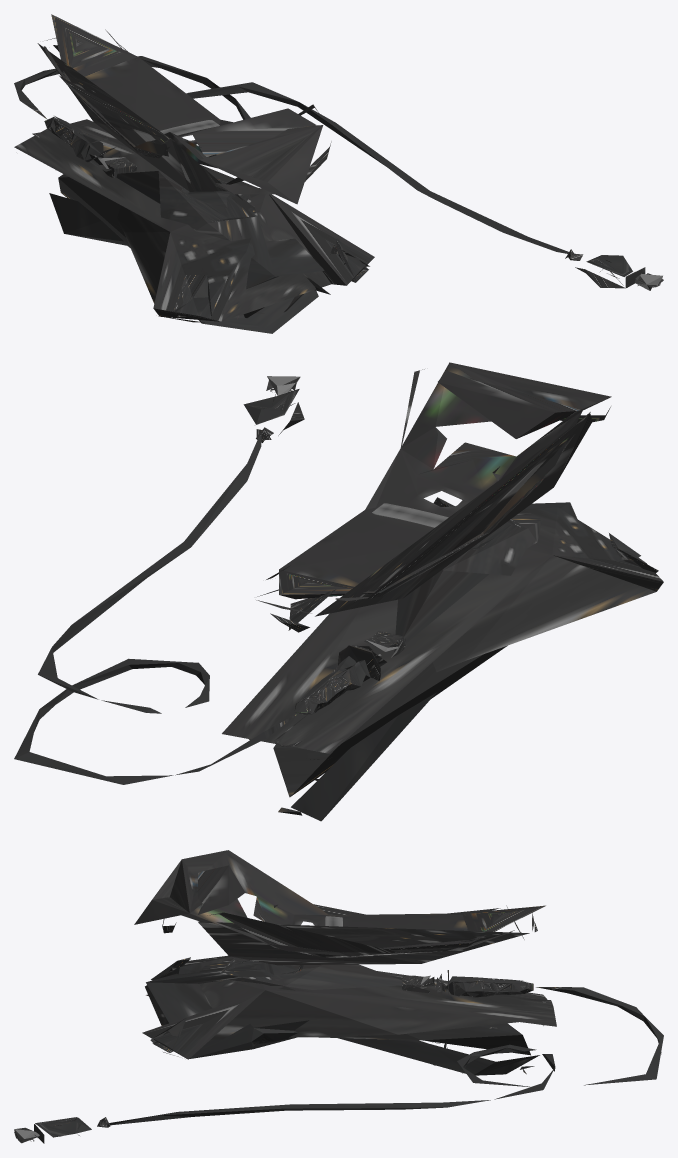
Rendered from computer_scanner_barcode_b01.glb.
The picture shows the model from 3 angles, top to bottom: view 1: azimuth 30°, elevation 25°; view 2: azimuth 150°, elevation 25°; view 3: azimuth 270°, elevation 25°; orthographic projection. The views are drawn at different scales.
Parts seen in each view (by area): view 1: geometry_0; view 2: geometry_0; view 3: geometry_0.
Part boxes in pixels (x1,y1,x2,y2): geometry_0: [14, 14, 663, 333]; geometry_0: [14, 362, 663, 821]; geometry_0: [14, 850, 663, 1143].
Bounding box in the file's own units: 0.2703 × 0.1437 × 0.42.
Materials: 1 (1 with a texture image).
